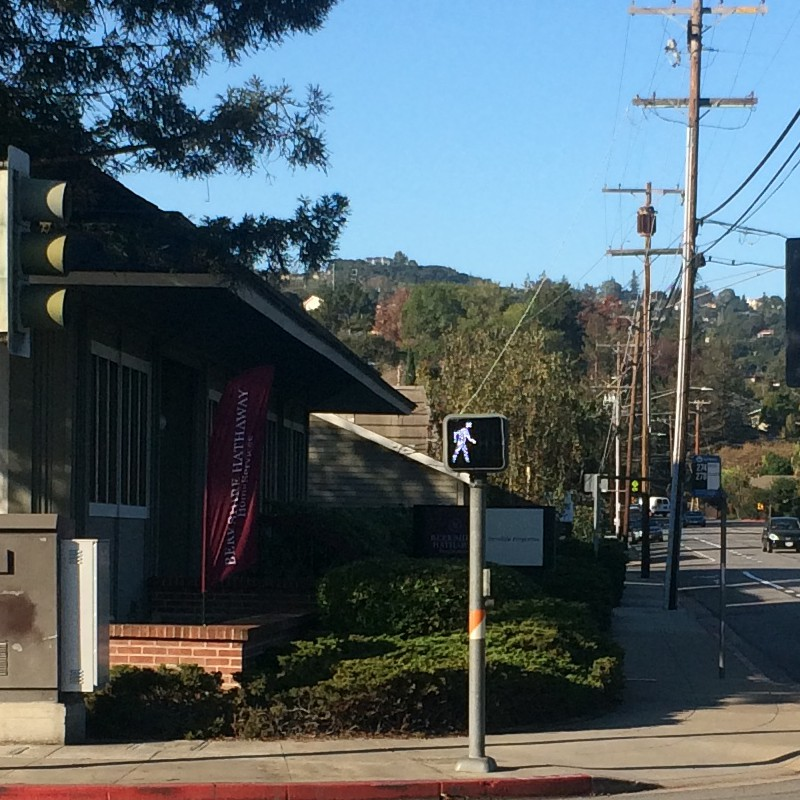go: (439, 414, 509, 476)
